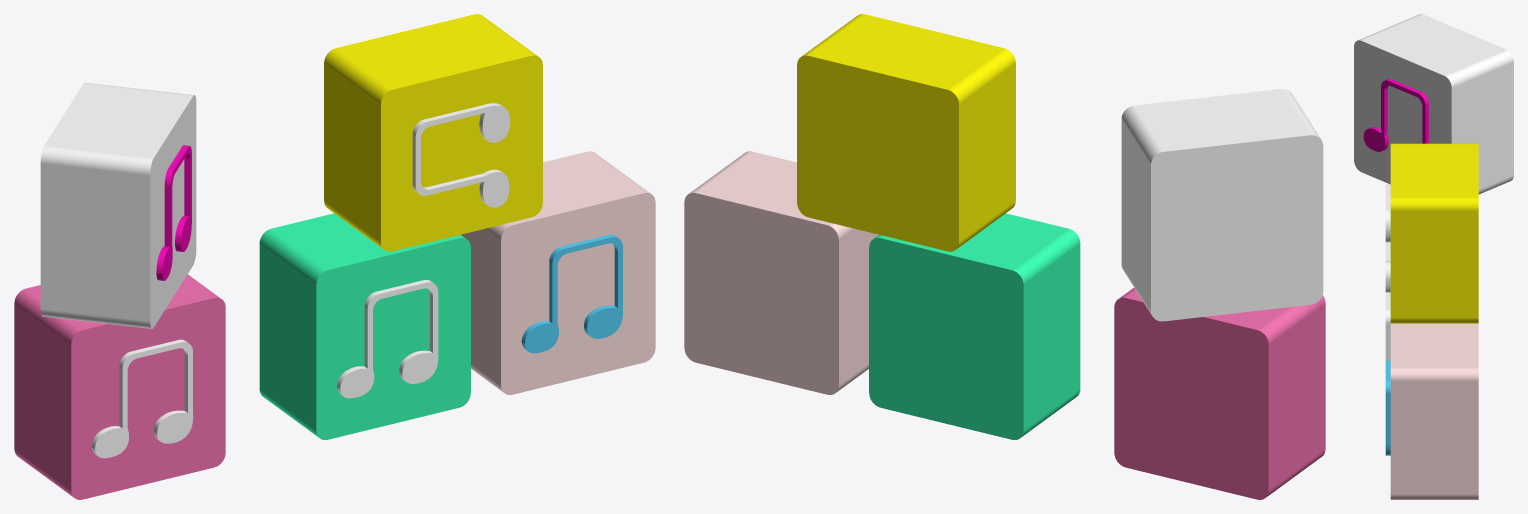
The model's file is model_MusicIcons.glb.
3 renders of one model, left to right at view 1: azimuth 30°, elevation 25°; view 2: azimuth 150°, elevation 25°; view 3: azimuth 270°, elevation 25°, orthographic. The views are drawn at different scales.
Parts seen in each view (by area): view 1: Object_8, Object_4, Object_6, Object_9, Object_7, Object_3, Object_2, Object_5; view 2: Object_8, Object_9, Object_4, Object_6, Object_7; view 3: Object_9, Object_8, Object_7, Object_5, Object_3, Object_2.
Boxes of the visible parts, <box> form: Object_8: <box>324,14,542,251</box>; Object_4: <box>259,213,470,439</box>; Object_6: <box>14,274,225,499</box>; Object_9: <box>40,82,196,328</box>; Object_7: <box>461,151,655,394</box>; Object_3: <box>91,103,510,458</box>; Object_2: <box>521,234,622,353</box>; Object_5: <box>156,145,191,280</box>; Object_8: <box>797,14,1015,251</box>; Object_9: <box>1121,89,1323,321</box>; Object_4: <box>869,213,1080,439</box>; Object_6: <box>1114,288,1325,499</box>; Object_7: <box>684,151,878,394</box>; Object_9: <box>1354,14,1513,194</box>; Object_8: <box>1390,143,1478,323</box>; Object_7: <box>1390,323,1478,499</box>; Object_5: <box>1363,79,1428,151</box>; Object_3: <box>1385,184,1390,360</box>; Object_2: <box>1385,361,1390,455</box>.
Size of the model in its own units: 0.4083 by 0.2233 by 0.1219.
